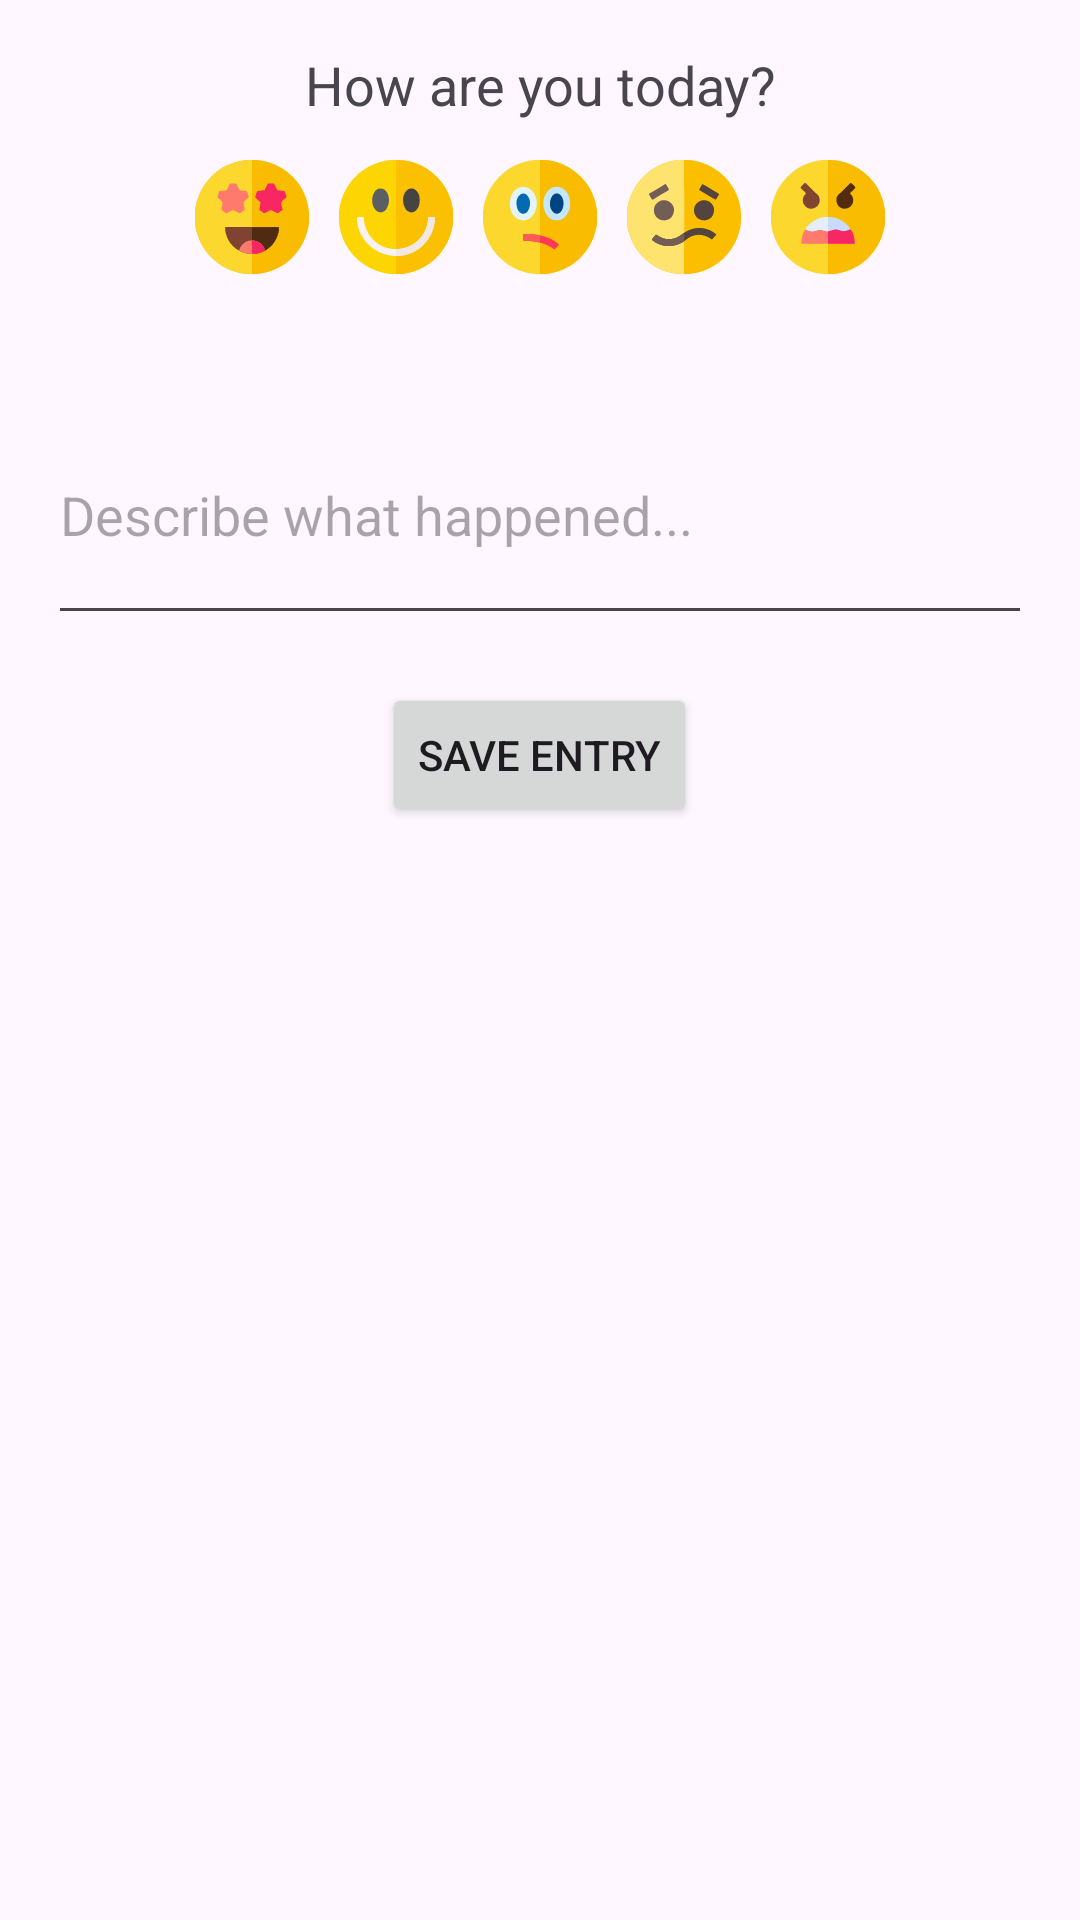

Locate icon controls on the screen. Image size 1080 x 1920, boxes as bbox=(x1, y1, x2, y2).
Amazing: bbox=(195, 160, 309, 274)
Awful: bbox=(771, 160, 885, 274)
Bad: bbox=(627, 160, 741, 274)
